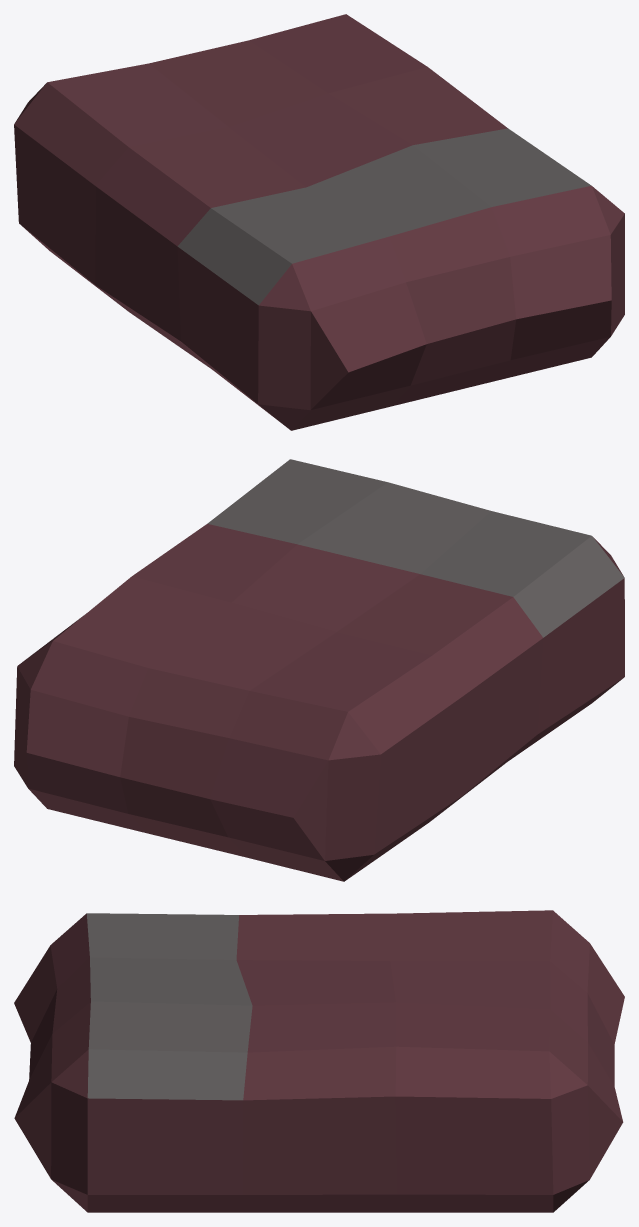
The model's file is construction-cement-bag.glb.
3 views of the same model, one above another, from view 1: azimuth 30°, elevation 25°; view 2: azimuth 150°, elevation 25°; view 3: azimuth 270°, elevation 25° (orthographic). The views are drawn at different scales.
Parts seen in each view (by area): view 1: cement-bag; view 2: cement-bag; view 3: cement-bag.
Boxes of the visible parts, box(x1,y1,x2,y2) form: cement-bag: box(14, 14, 624, 430); cement-bag: box(14, 459, 624, 881); cement-bag: box(14, 910, 624, 1212).
Bounding box in the file's own units: 0.4503 × 0.2043 × 0.6802.
